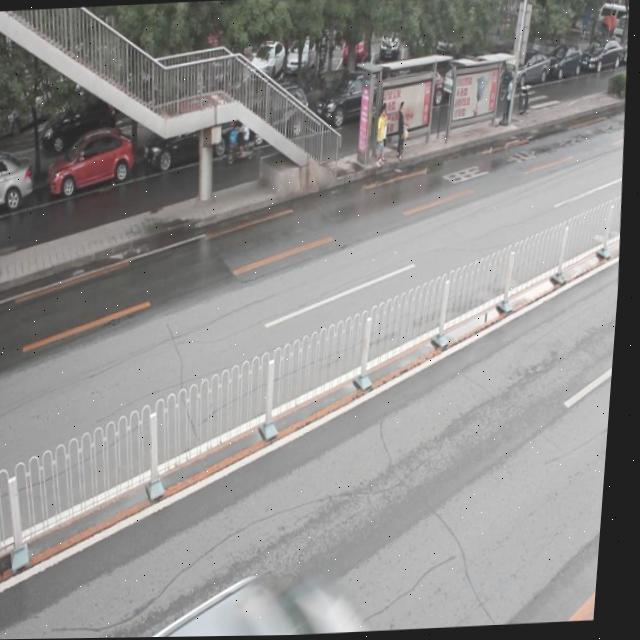car: (48, 127, 141, 196), (143, 109, 234, 172), (239, 84, 314, 149), (315, 68, 389, 130), (0, 151, 39, 213)
